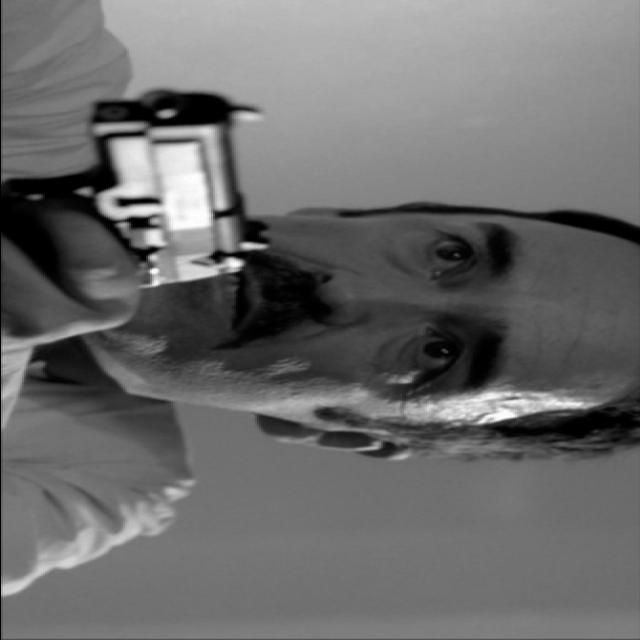weapons: (2, 80, 280, 312)
